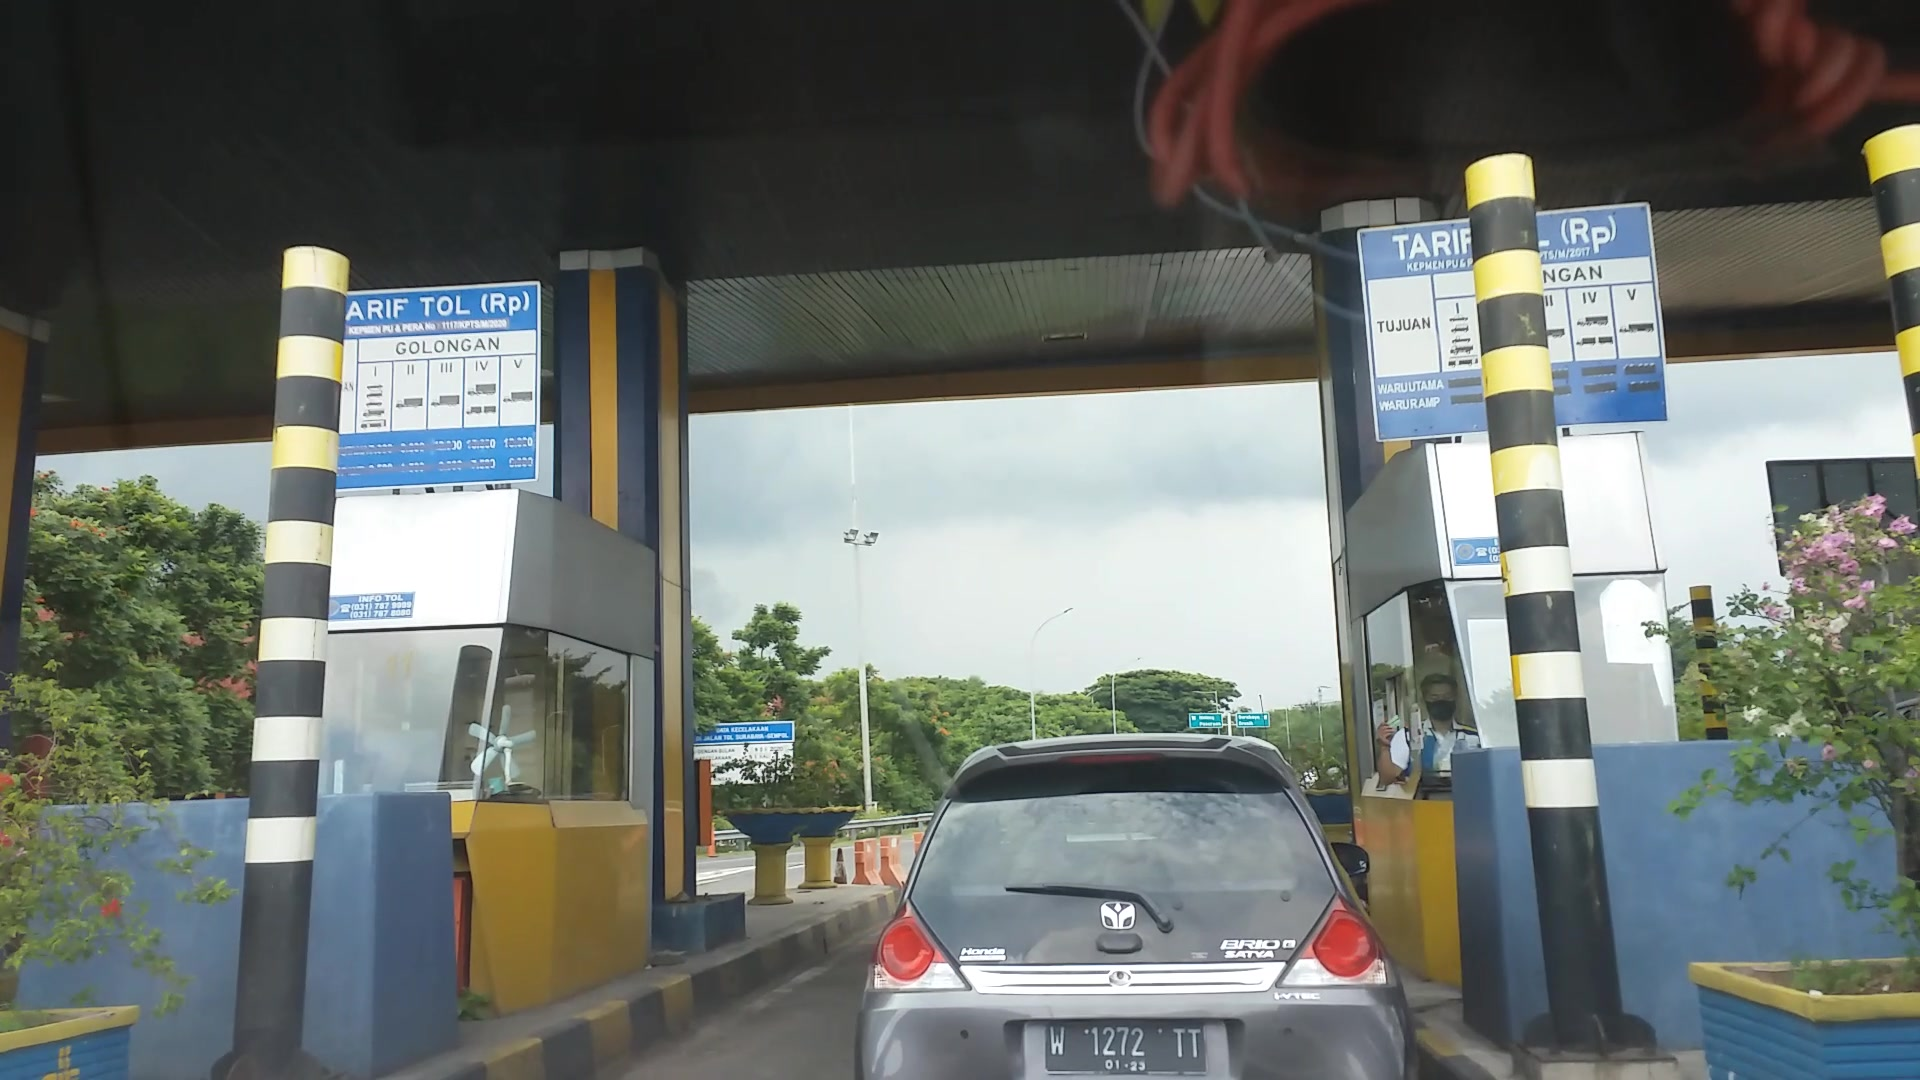plate_positive: (1044, 1021, 1207, 1073)
